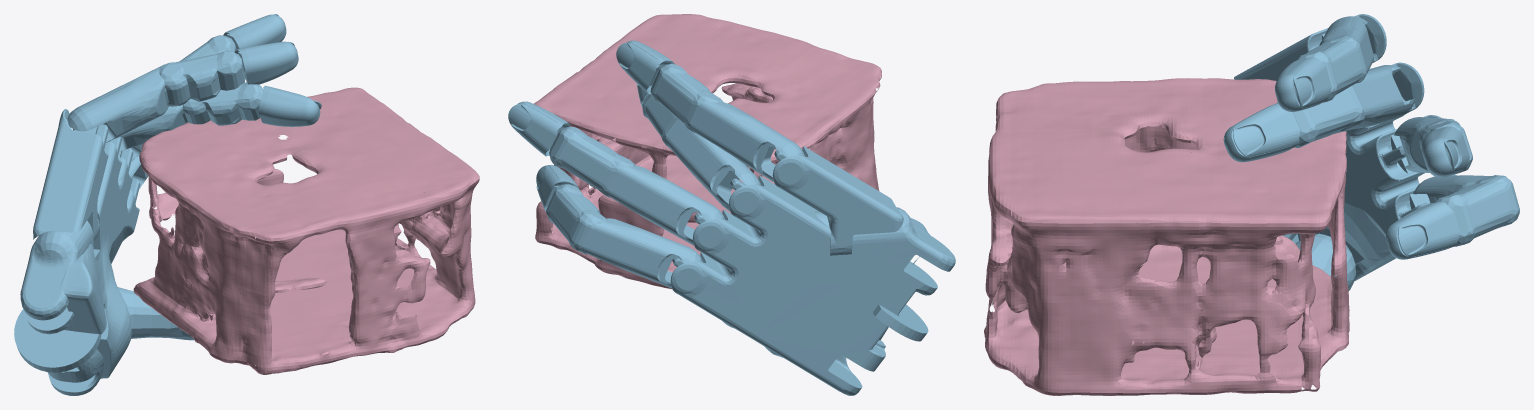
The picture shows the model from 3 angles, left to right: view 1: azimuth 30°, elevation 25°; view 2: azimuth 150°, elevation 25°; view 3: azimuth 270°, elevation 25°; orthographic projection. The views are drawn at different scales.
Parts seen in each view (by area): view 1: world, hand_isaac_q; view 2: hand_isaac_q, world; view 3: world, hand_isaac_q.
Boxes of the visible parts, <box> form: world: <box>133,87,479,374</box>; hand_isaac_q: <box>14,14,321,395</box>; hand_isaac_q: <box>508,40,955,395</box>; world: <box>534,14,881,289</box>; world: <box>984,78,1349,395</box>; hand_isaac_q: <box>1223,14,1519,290</box>.
Bounding box in the file's own units: 0.1986 × 0.1471 × 0.1927.
